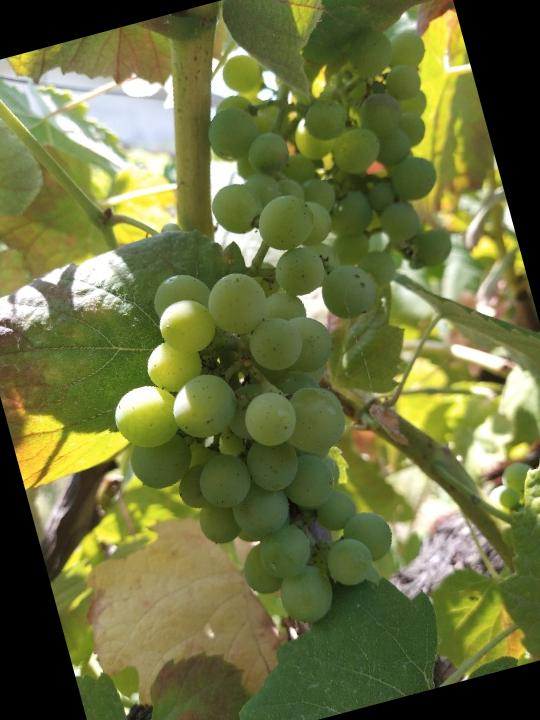grape: (77, 223, 458, 662)
